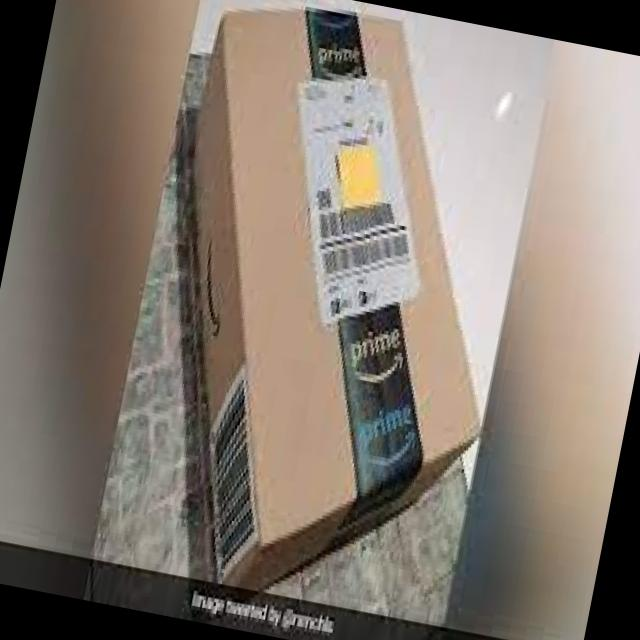box: (194, 9, 482, 591)
